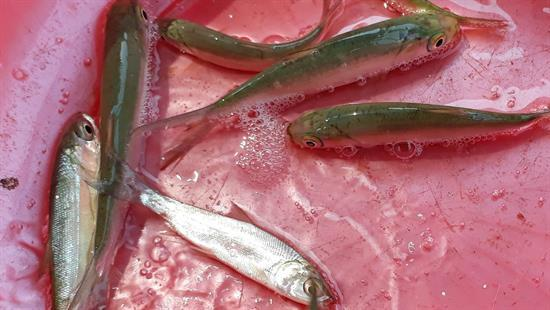fish: (282, 107, 512, 148), (43, 118, 98, 254), (92, 4, 149, 133), (219, 251, 335, 306), (367, 10, 474, 59), (160, 11, 247, 64)
